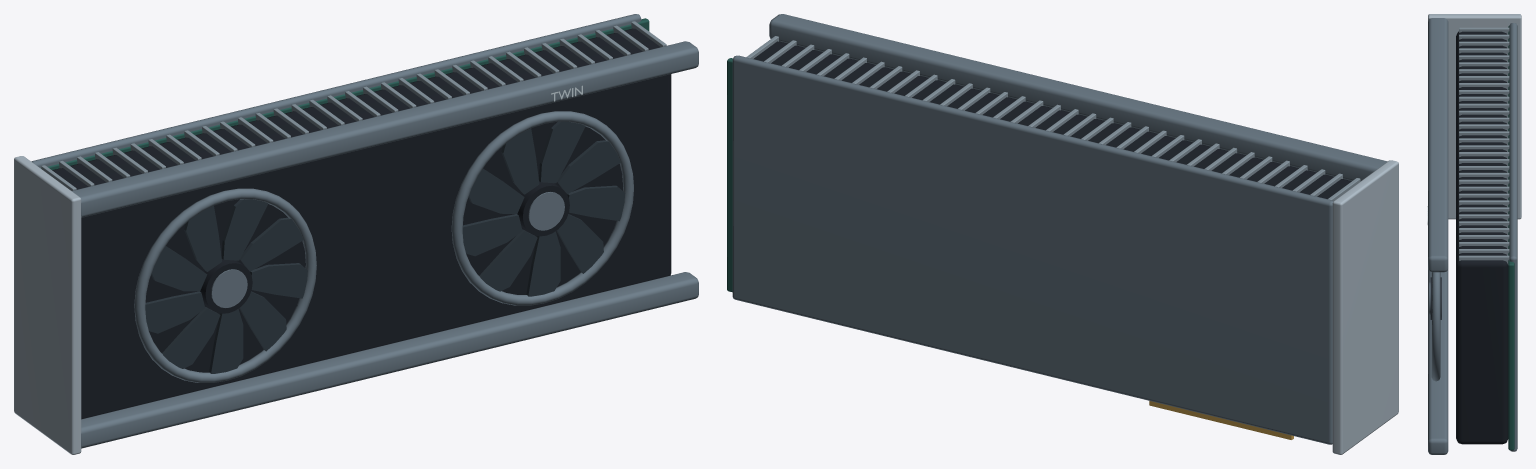
Rendered from twin.glb.
The picture shows the model from 3 angles, left to right: view 1: azimuth 30°, elevation 25°; view 2: azimuth 150°, elevation 25°; view 3: azimuth 270°, elevation 25°; orthographic projection. The views are drawn at different scales.
Visible parts, largest first — view 1: twin housing; view 2: twin housing; view 3: twin housing.
Boxes of the visible parts, x1=… form: twin housing: x1=14, y1=14, x2=698, y2=454; twin housing: x1=727, y1=14, x2=1398, y2=454; twin housing: x1=1427, y1=14, x2=1521, y2=454.
Bounding box in the file's own units: 282 × 110 × 46.31.
